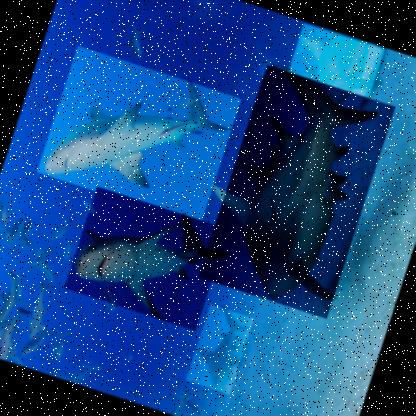bulldog-shark: (198, 63, 398, 318), (37, 44, 243, 225), (64, 184, 230, 330), (283, 21, 386, 114), (186, 302, 256, 394), (241, 110, 290, 200)
